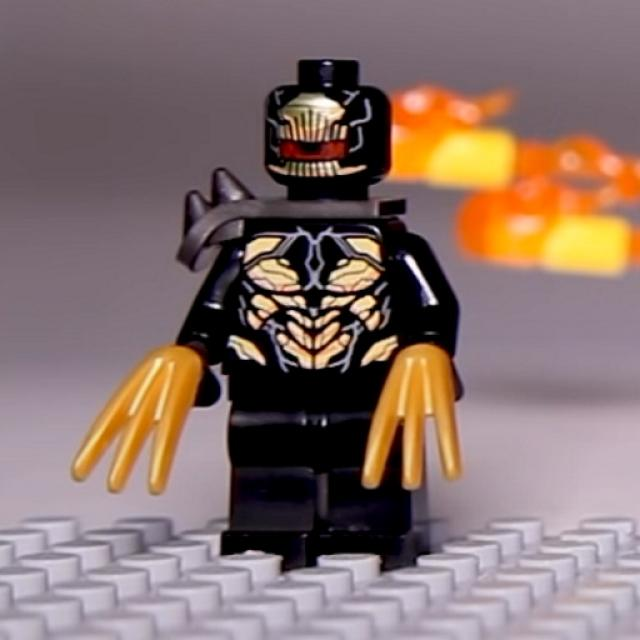Lego-Minifigures: (74, 41, 498, 576)
